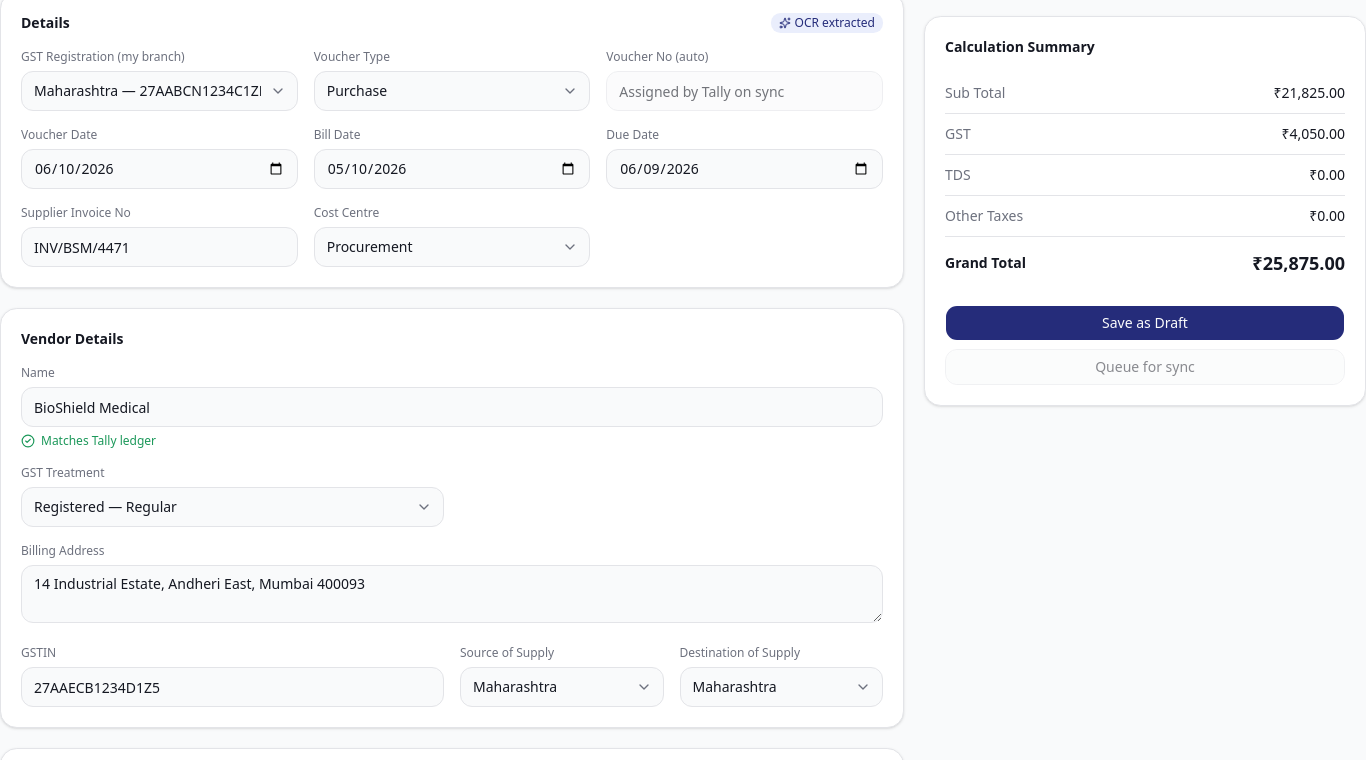
Test: CreateBillForm vendor ledger lookup (§3.8) › renders a LEDGER_POSSIBLE_DUPLICATE error and offers its suggested ledger names
The width and height of the screenshot is (1366, 760).
Replace the text in the field labelled "Name" with "BioShield Medicals" at (452, 407), box [21,387,883,427]
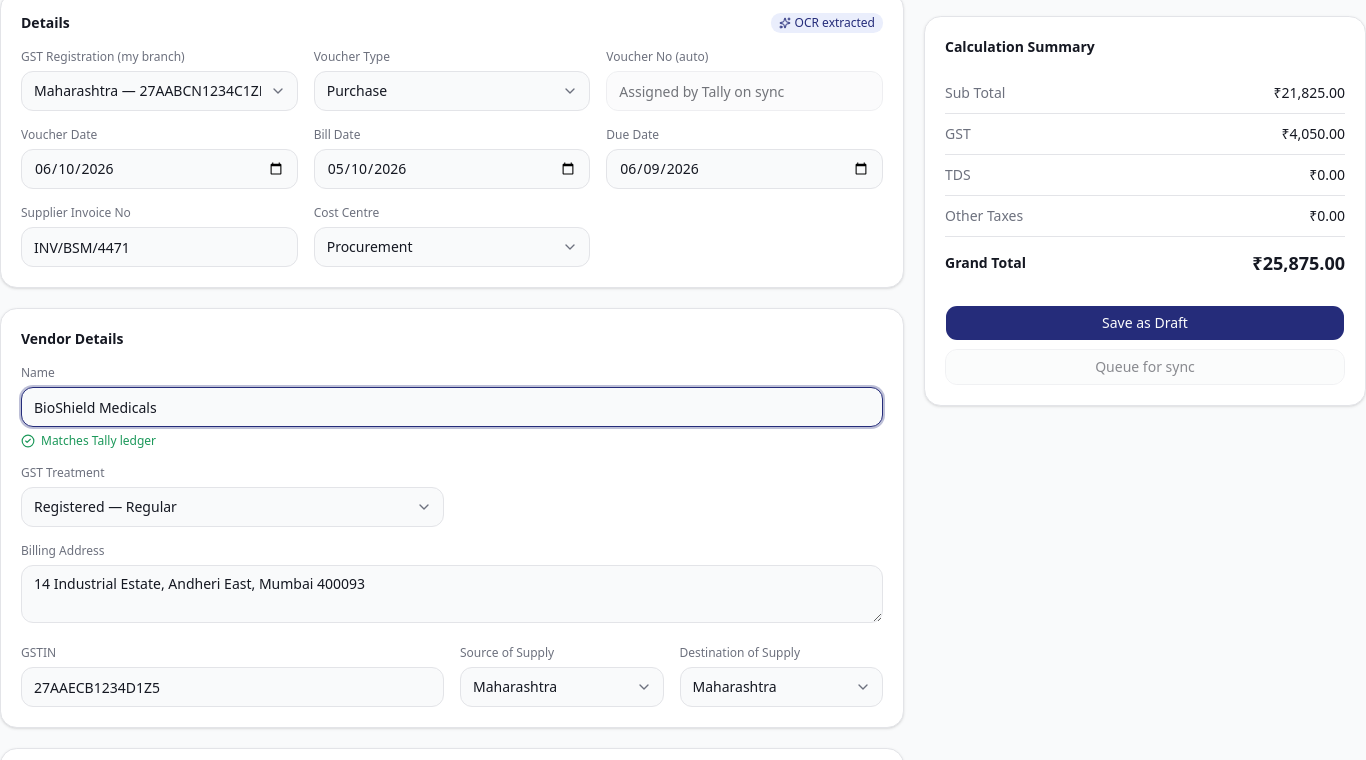
Click the button "Save as Draft" at (1145, 323), box [945,305,1345,341]
(page scrolled)
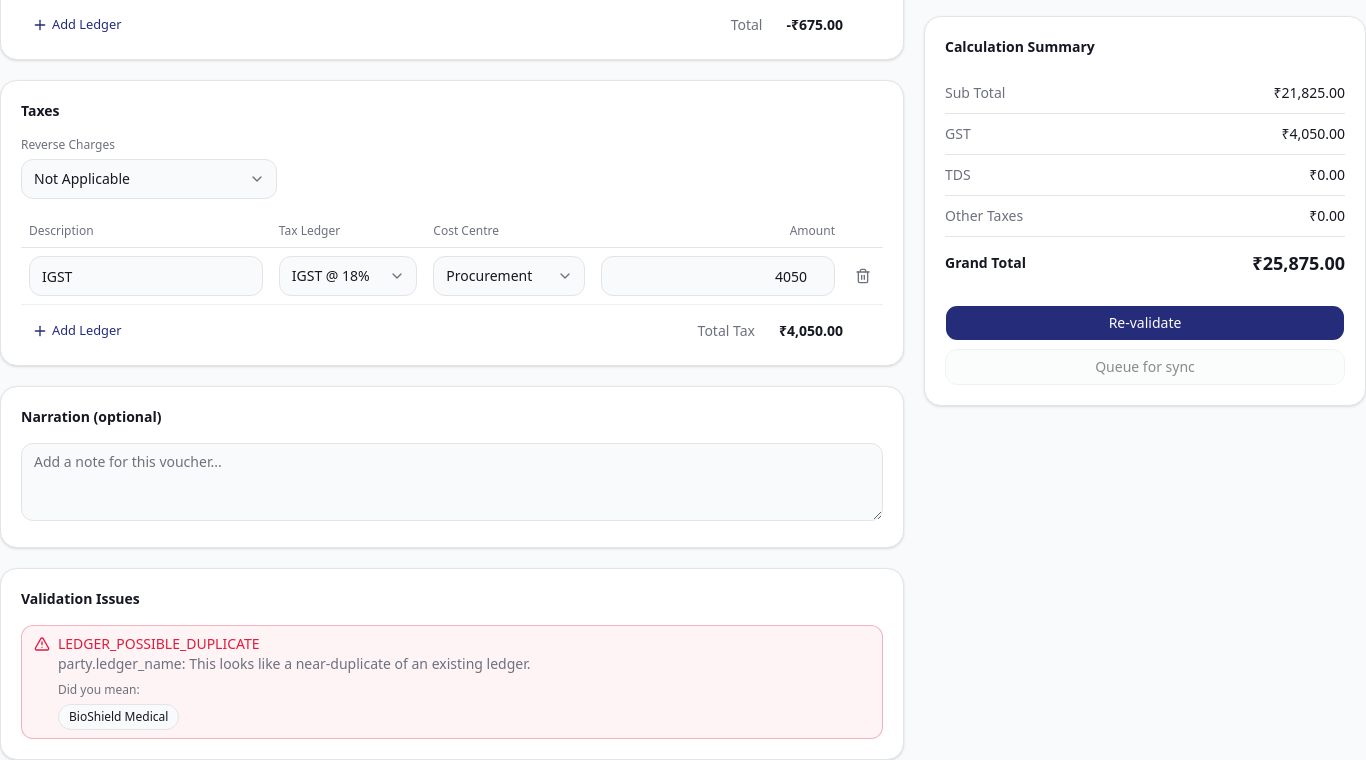
Expected: the text "LEDGER_POSSIBLE_DUPLICATE" is shown, [58,634,260,653]
Expected: the text "Did you mean:" is shown, [58,681,140,698]
// Picking the suggested name puts it in the vendor field.
Click the button "BioShield Medical" at (119, 717), box [58,704,179,730]
(page scrolled)
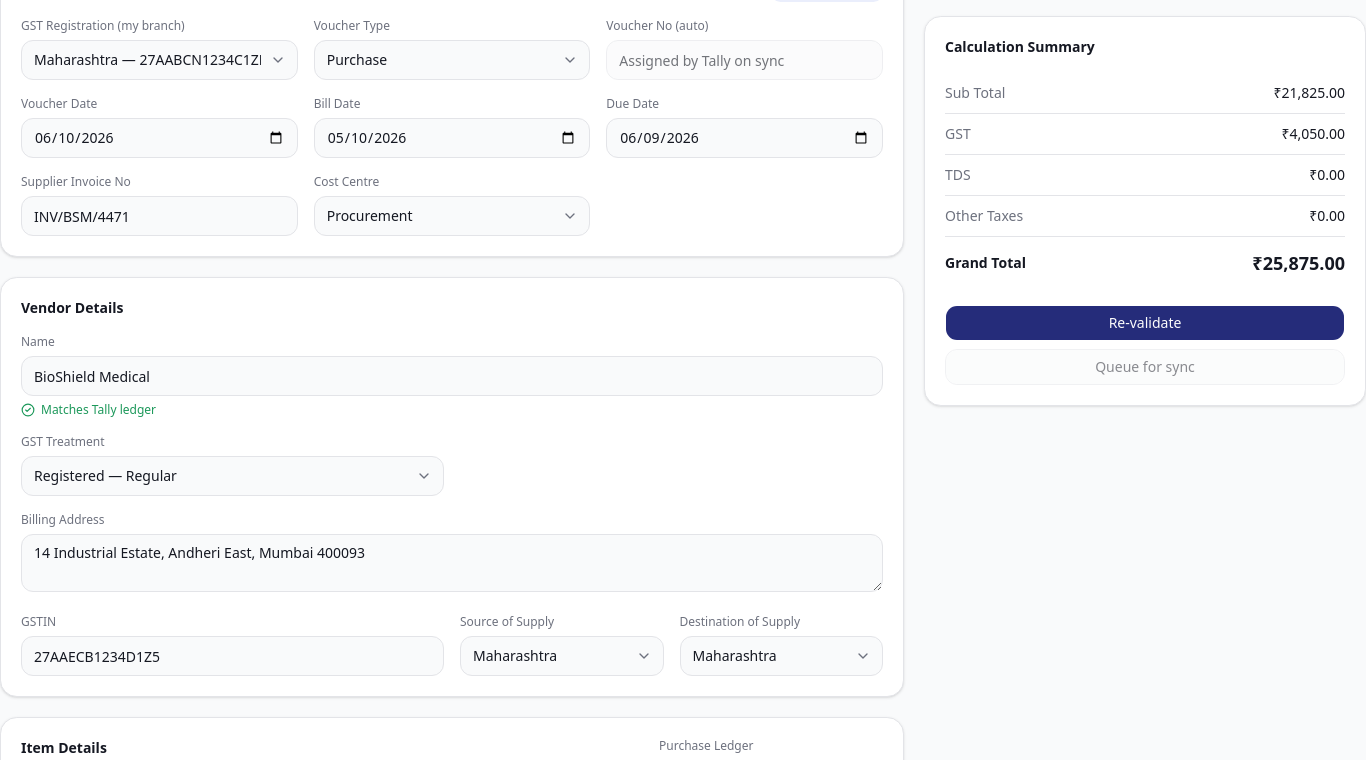
Expected: the field labelled "Name" holds "BioShield Medical", [21,356,883,396]
